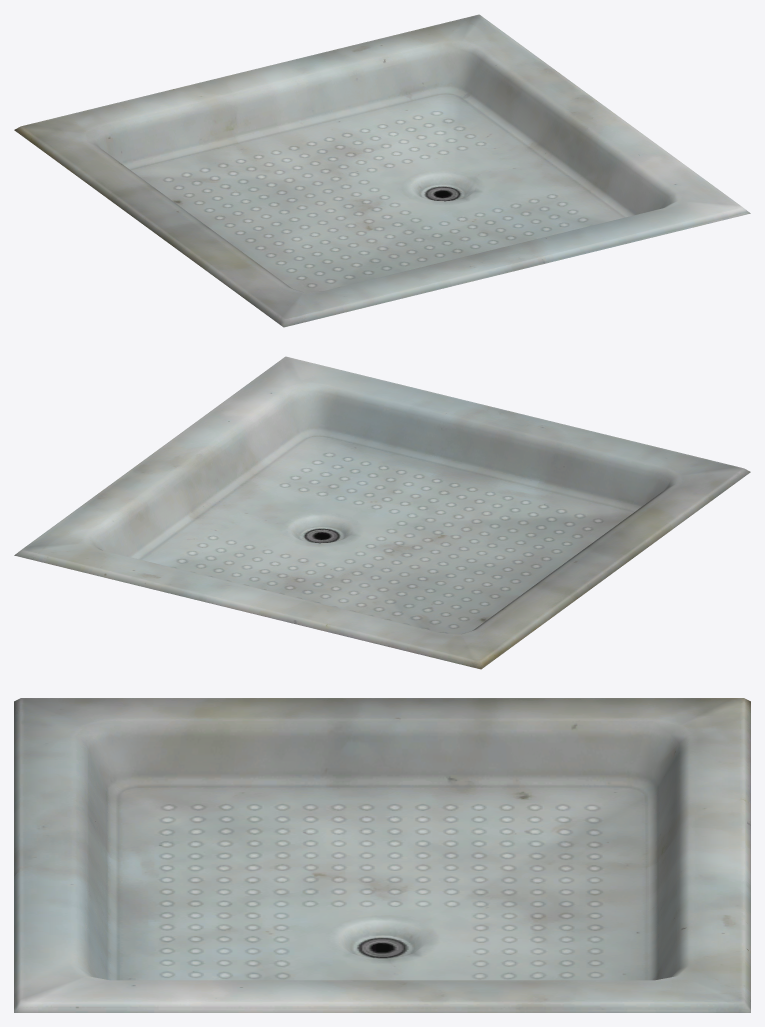
Rendered from shower_cubicle_drain.dae.
3 views of the same model, one above another, from view 1: azimuth 30°, elevation 25°; view 2: azimuth 150°, elevation 25°; view 3: azimuth 270°, elevation 25° (orthographic). The views are drawn at different scales.
Visible parts, largest first — view 1: low; view 2: low; view 3: low.
Boxes of the visible parts, x1=… form: low: x1=14, y1=14, x2=750, y2=327; low: x1=14, y1=356, x2=750, y2=669; low: x1=14, y1=698, x2=750, y2=1012.
Size of the model in its own units: 2 by 0.1703 by 2.
